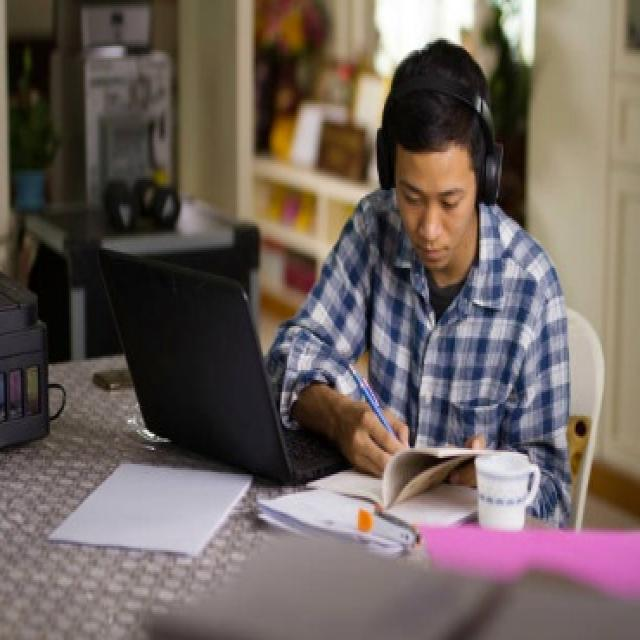adult: (257, 38, 574, 534)
